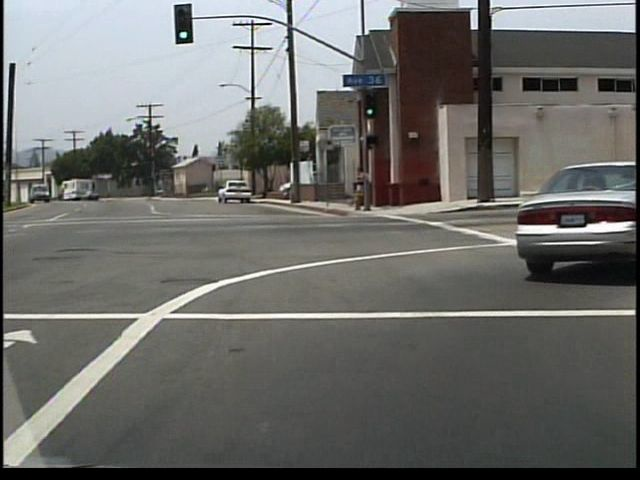person: (355, 169, 376, 214)
